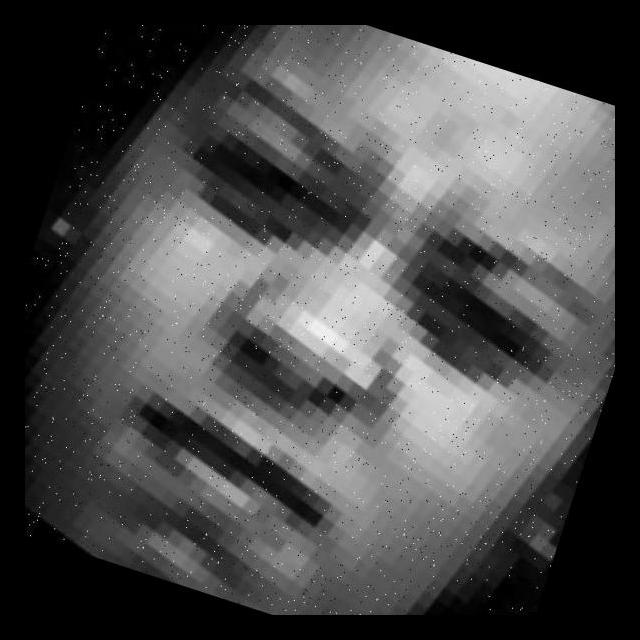Disgust: (111, 89, 550, 586)
